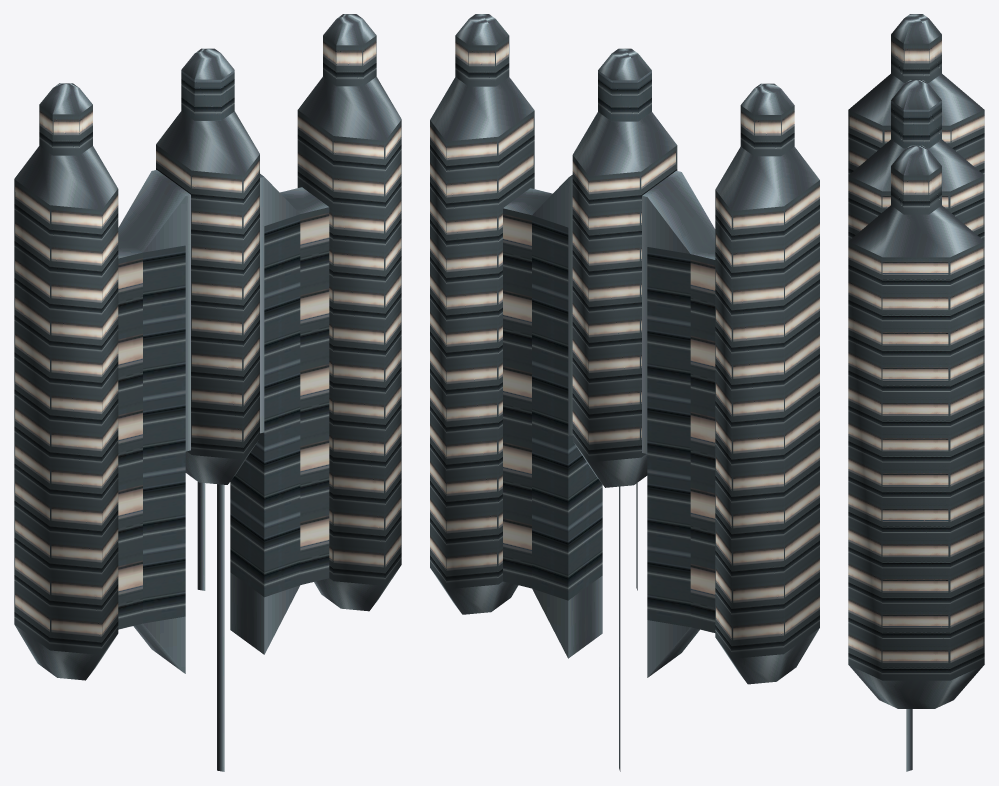
The model's file is puestoObservacion2.obj.
The picture shows the model from 3 angles, left to right: view 1: azimuth 30°, elevation 25°; view 2: azimuth 150°, elevation 25°; view 3: azimuth 270°, elevation 25°; orthographic projection. The views are drawn at different scales.
Parts seen in each view (by area): view 1: FARBIL02_gxmat160, FARBIL02_gxmat153, FARBIL02_gxmat166, FARBIL02_gxmat170, FARBIL02_gxmat168, FARBIL02_gxmat174, FARBIL02_gxmat172, FARBIL02_gxmat163, FARBIL02_gxmat156; view 2: FARBIL02_gxmat160, FARBIL02_gxmat153, FARBIL02_gxmat166, FARBIL02_gxmat170, FARBIL02_gxmat168, FARBIL02_gxmat156, FARBIL02_gxmat163, FARBIL02_gxmat172, FARBIL02_gxmat174; view 3: FARBIL02_gxmat160, FARBIL02_gxmat170, FARBIL02_gxmat153, FARBIL02_gxmat163, FARBIL02_gxmat156, FARBIL02_gxmat172, FARBIL02_gxmat174.
Boxes of the visible parts, x1,y1,x2,y2 form: FARBIL02_gxmat160: (118, 110, 401, 629); FARBIL02_gxmat153: (14, 179, 118, 655); FARBIL02_gxmat166: (143, 214, 300, 623); FARBIL02_gxmat170: (14, 14, 401, 680); FARBIL02_gxmat168: (118, 170, 328, 673); FARBIL02_gxmat174: (197, 482, 224, 771); FARBIL02_gxmat172: (181, 70, 234, 120); FARBIL02_gxmat163: (323, 35, 376, 86); FARBIL02_gxmat156: (39, 105, 92, 155); FARBIL02_gxmat160: (430, 110, 715, 632); FARBIL02_gxmat153: (715, 180, 819, 658); FARBIL02_gxmat166: (532, 215, 690, 626); FARBIL02_gxmat170: (430, 14, 819, 684); FARBIL02_gxmat168: (503, 170, 715, 677); FARBIL02_gxmat156: (740, 105, 794, 156); FARBIL02_gxmat163: (455, 35, 509, 86); FARBIL02_gxmat172: (598, 70, 651, 121); FARBIL02_gxmat174: (619, 483, 637, 771); FARBIL02_gxmat160: (848, 175, 984, 680); FARBIL02_gxmat170: (848, 14, 984, 708); FARBIL02_gxmat153: (848, 110, 984, 175); FARBIL02_gxmat163: (891, 166, 941, 214); FARBIL02_gxmat156: (891, 34, 941, 82); FARBIL02_gxmat172: (891, 100, 941, 148); FARBIL02_gxmat174: (906, 709, 912, 771).
Size of the model in its own units: 185 by 362 by 65.11.
